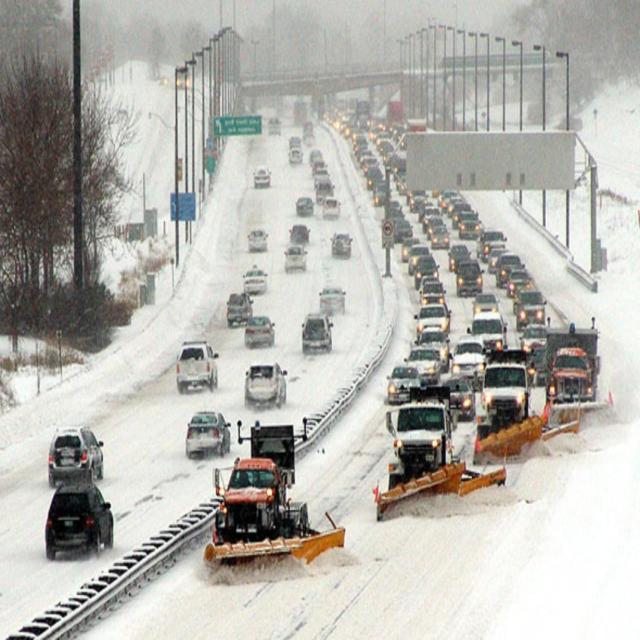Car: (388, 394, 460, 482), (45, 482, 114, 559), (478, 352, 533, 434), (42, 426, 104, 492), (547, 346, 594, 405), (176, 339, 220, 393), (185, 409, 232, 457), (244, 362, 287, 407), (400, 349, 444, 391), (451, 338, 488, 384), (386, 363, 423, 405), (470, 311, 507, 353), (444, 372, 477, 417), (301, 311, 334, 354), (415, 326, 450, 364), (520, 325, 549, 368), (515, 288, 547, 326), (244, 314, 276, 348), (417, 303, 449, 336), (226, 291, 254, 327), (455, 260, 483, 295), (318, 284, 347, 316), (496, 253, 524, 284), (506, 270, 533, 302), (413, 256, 440, 287), (420, 277, 448, 305), (242, 268, 269, 296), (480, 229, 506, 258), (472, 291, 501, 316), (449, 243, 472, 272), (284, 245, 308, 272), (456, 212, 479, 238), (401, 237, 423, 264), (392, 218, 414, 244), (247, 227, 270, 251), (331, 232, 353, 257), (423, 210, 445, 234), (314, 170, 334, 196), (360, 157, 380, 183), (288, 223, 310, 246), (429, 227, 451, 250), (366, 168, 384, 194), (322, 197, 342, 220), (446, 195, 466, 218), (454, 202, 474, 224), (253, 166, 272, 188), (385, 200, 404, 222), (372, 183, 389, 207), (295, 196, 315, 216), (441, 189, 460, 208), (288, 146, 303, 164), (309, 149, 324, 167), (312, 157, 327, 175)
Truck: (214, 408, 312, 542)
